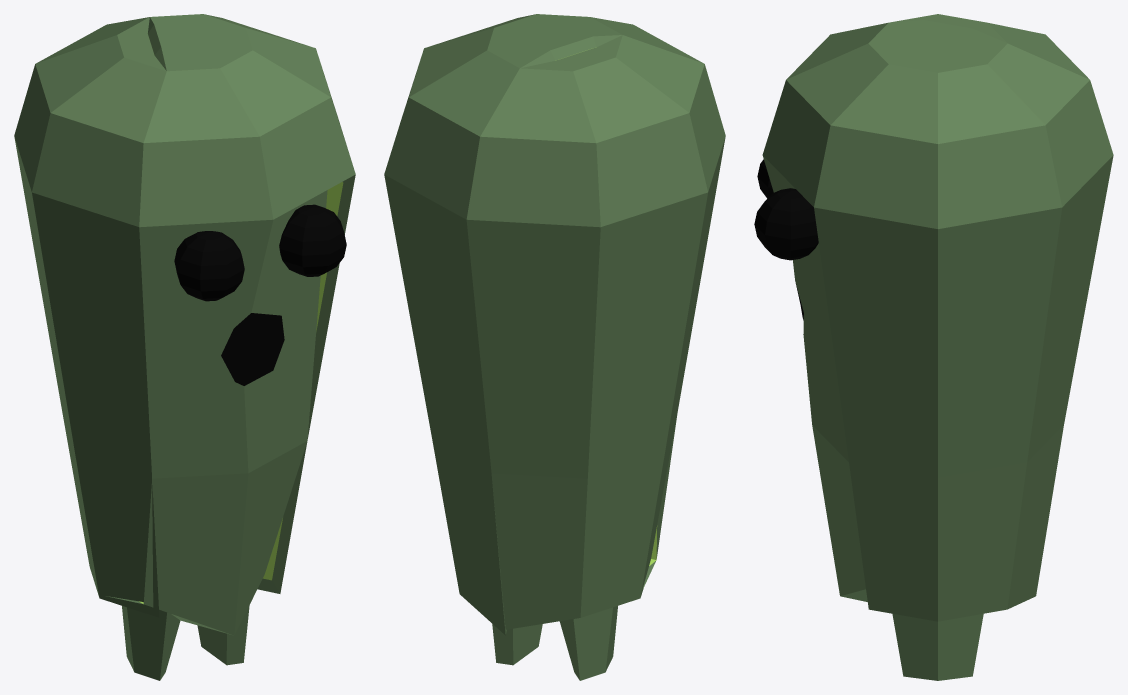
Rendered from Cactus_Shatter.fbx.
3 views of the same model, side by side, from view 1: azimuth 30°, elevation 25°; view 2: azimuth 150°, elevation 25°; view 3: azimuth 270°, elevation 25° (orthographic).
Parts seen in each view (by area): view 1: Cactus_monster.008, Cactus_monster.003, Cactus_monster.005, Cactus_monster.004, Cactus_monster.006, Cactus_monster.010, Cactus_monster.002, Cactus_monster.009, Cactus_monster.007; view 2: Cactus_monster.005, Cactus_monster.004, Cactus_monster.006, Cactus_monster.003, Cactus_monster.009, Cactus_monster.007, Cactus_monster.008; view 3: Cactus_monster.006, Cactus_monster.003, Cactus_monster.008, Cactus_monster.007, Cactus_monster.002, Cactus_monster.004.
Boxes of the visible parts, box(x1,y1,x2,y2) form: Cactus_monster.008: box(106, 190, 327, 635); Cactus_monster.003: box(139, 14, 355, 227); Cactus_monster.005: box(14, 137, 159, 617); Cactus_monster.004: box(14, 17, 166, 226); Cactus_monster.006: box(257, 174, 355, 593); Cactus_monster.010: box(174, 231, 244, 301); Cactus_monster.002: box(279, 204, 346, 276); Cactus_monster.009: box(122, 606, 180, 680); Cactus_monster.007: box(197, 605, 249, 665); Cactus_monster.005: box(466, 137, 725, 629); Cactus_monster.004: box(466, 35, 725, 227); Cactus_monster.006: box(384, 174, 506, 635); Cactus_monster.003: box(384, 14, 703, 219); Cactus_monster.009: box(559, 606, 617, 680); Cactus_monster.007: box(492, 624, 542, 665); Cactus_monster.008: box(642, 415, 677, 590); Cactus_monster.006: box(814, 155, 1113, 621); Cactus_monster.003: box(762, 20, 1113, 228); Cactus_monster.008: box(762, 155, 867, 601); Cactus_monster.007: box(892, 613, 983, 680); Cactus_monster.002: box(754, 188, 818, 260); Cactus_monster.004: box(890, 14, 1089, 79).
Bounding box in the file's own units: 86.49 × 170 × 88.5.
